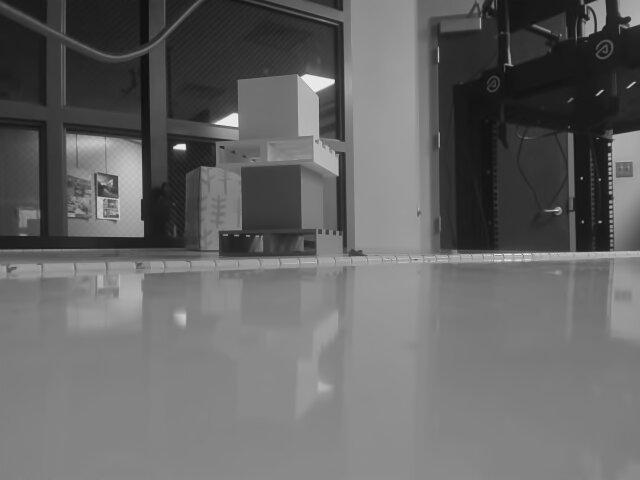grey pallet: (203, 154, 353, 260)
white pallet: (215, 71, 349, 183)
